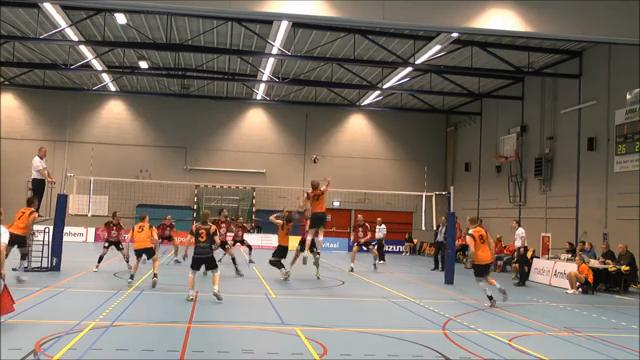attacco: (298, 173, 332, 266)
